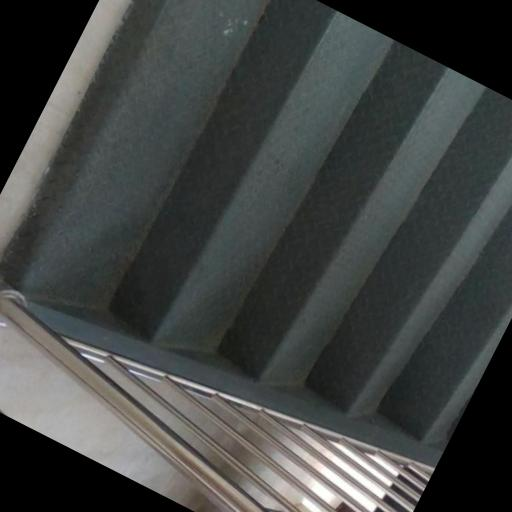stairs: (0, 0, 511, 443)
